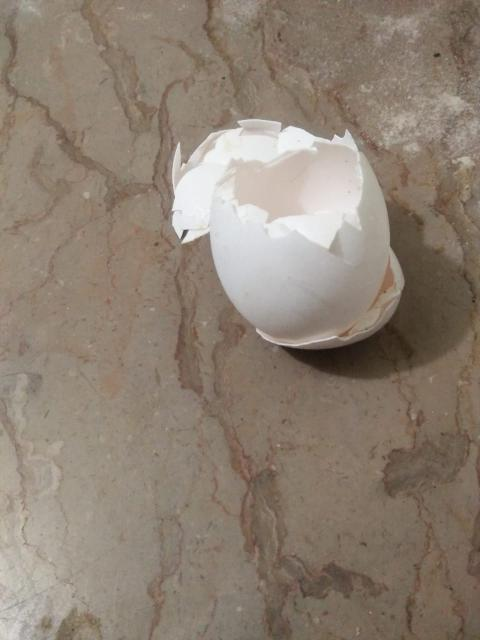Roto: (170, 117, 405, 350)
